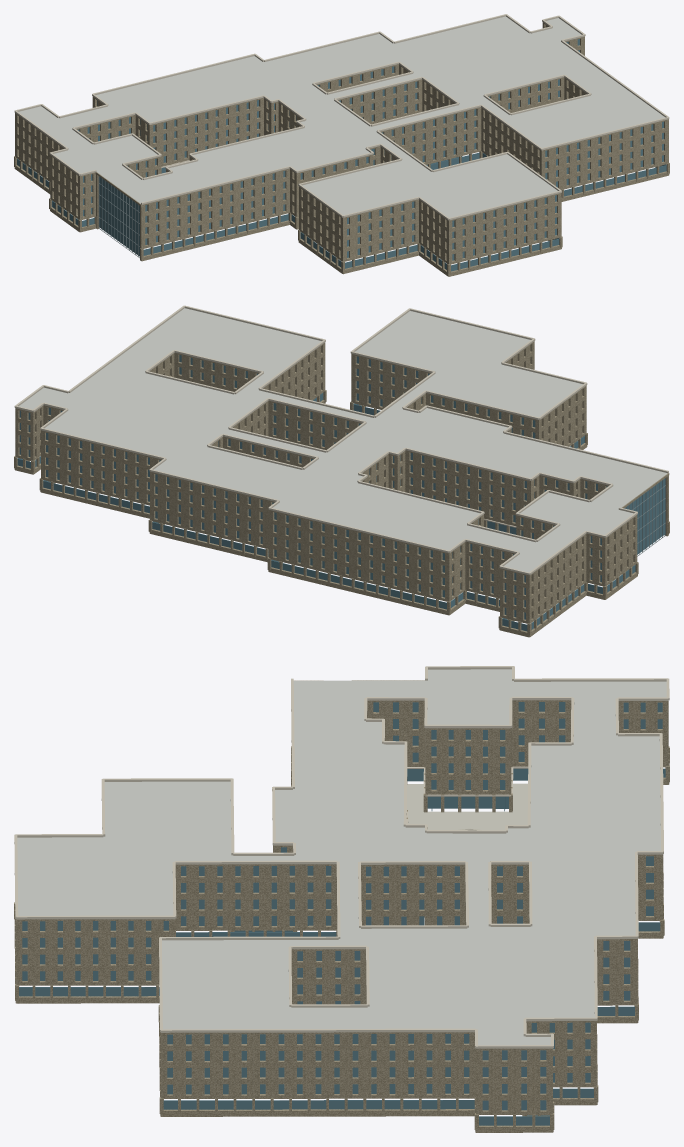
The model's file is zonghe.far.glb.
The picture shows the model from 3 angles, top to bottom: view 1: azimuth 30°, elevation 25°; view 2: azimuth 150°, elevation 25°; view 3: azimuth 270°, elevation 25°; orthographic projection. The views are drawn at different scales.
Parts seen in each view (by area): view 1: roof, wall, glass, trim, metal; view 2: roof, wall, trim, glass, metal; view 3: roof, wall, glass, trim, paving.
Part boxes in pixels (<box>): roof: <box>19,16,665,217</box>; wall: <box>14,22,669,276</box>; glass: <box>17,39,666,271</box>; trim: <box>14,14,669,220</box>; metal: <box>98,176,139,257</box>; roof: <box>19,308,667,572</box>; wall: <box>14,341,669,637</box>; trim: <box>14,305,668,574</box>; glass: <box>17,355,665,631</box>; metal: <box>626,478,665,556</box>; roof: <box>17,669,666,1045</box>; wall: <box>14,680,669,1132</box>; glass: <box>19,702,665,1125</box>; trim: <box>14,666,669,1048</box>; paving: <box>407,783,527,830</box>.
Bounding box in the file's own units: 154 × 16.34 × 112.
Materials: 9 (1 with a texture image).
